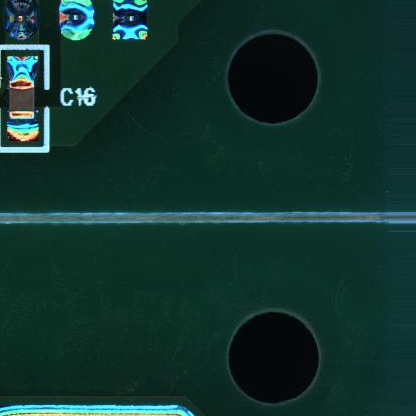spot: (112, 1, 150, 43), (59, 1, 95, 43), (4, 1, 40, 42)
